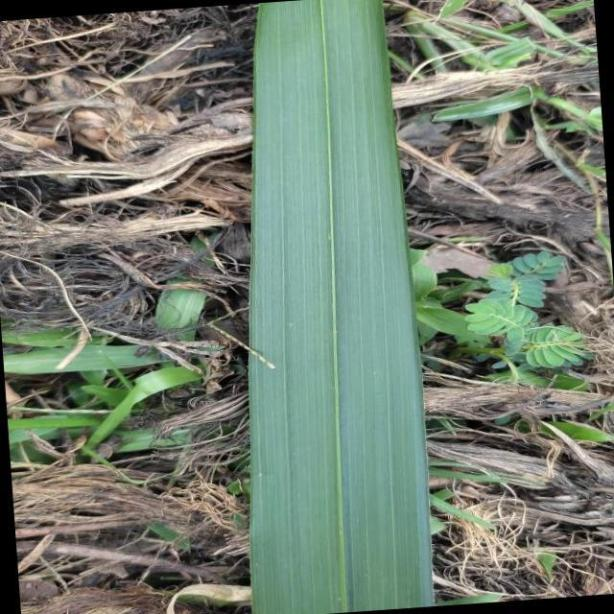Healthy: (245, 2, 435, 610)
